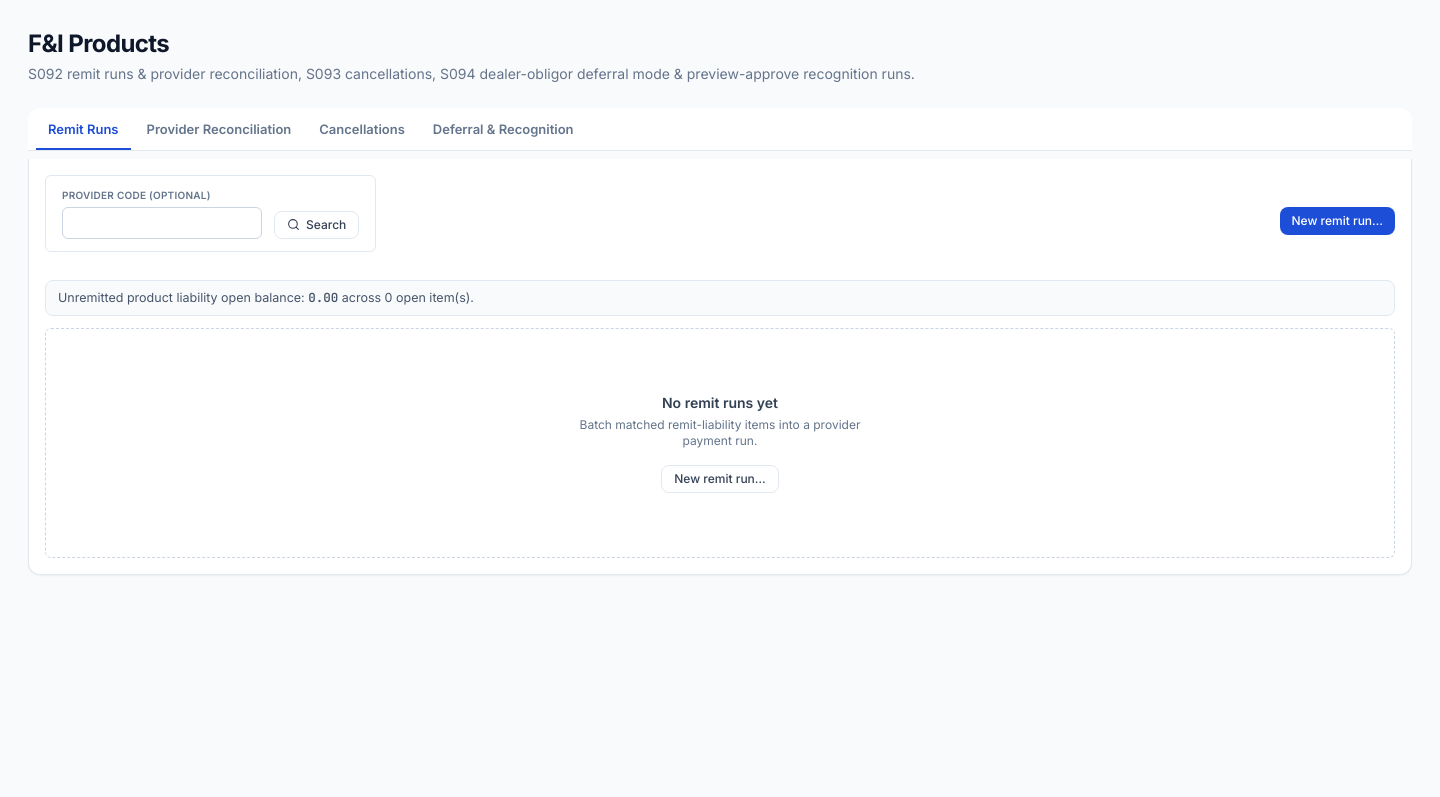
Test case: FniProducts — Deferral bookings + schedule-authoritative tie-out › renders real deferral booking rows from GET /deferral-bookings
The width and height of the screenshot is (1440, 797).
Click the button with test id "fni-products-tab-deferral" at {"x": 503, "y": 131}, box [421,112,586,150]
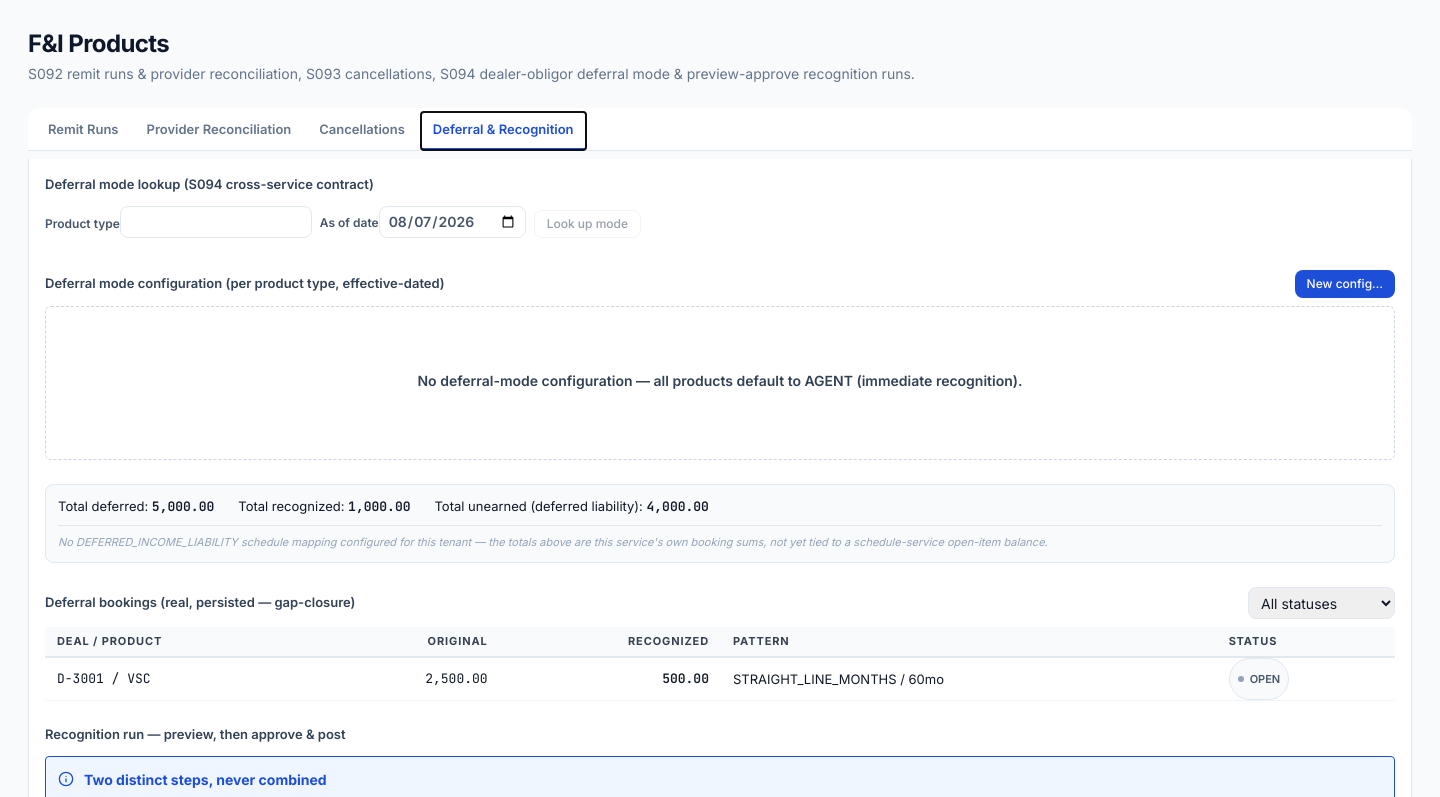
Expected: the row with test id "deferral-booking-row-db-1" is shown, [45,656,1395,700]
